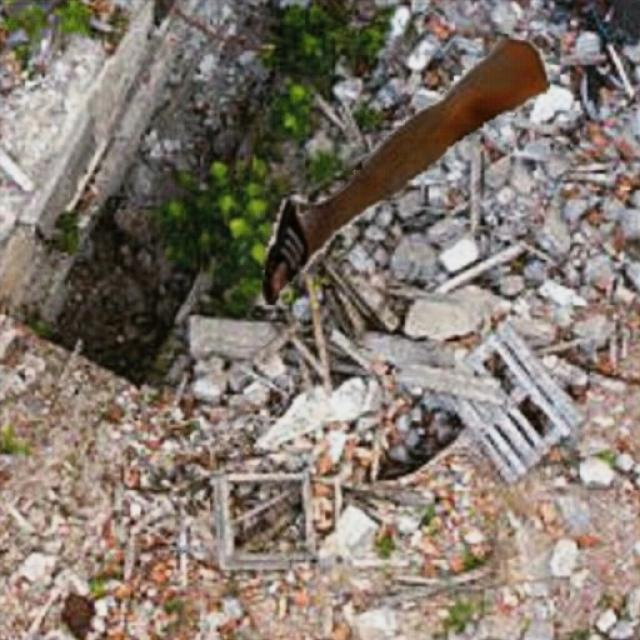Person in Rubble: (262, 34, 548, 304)
